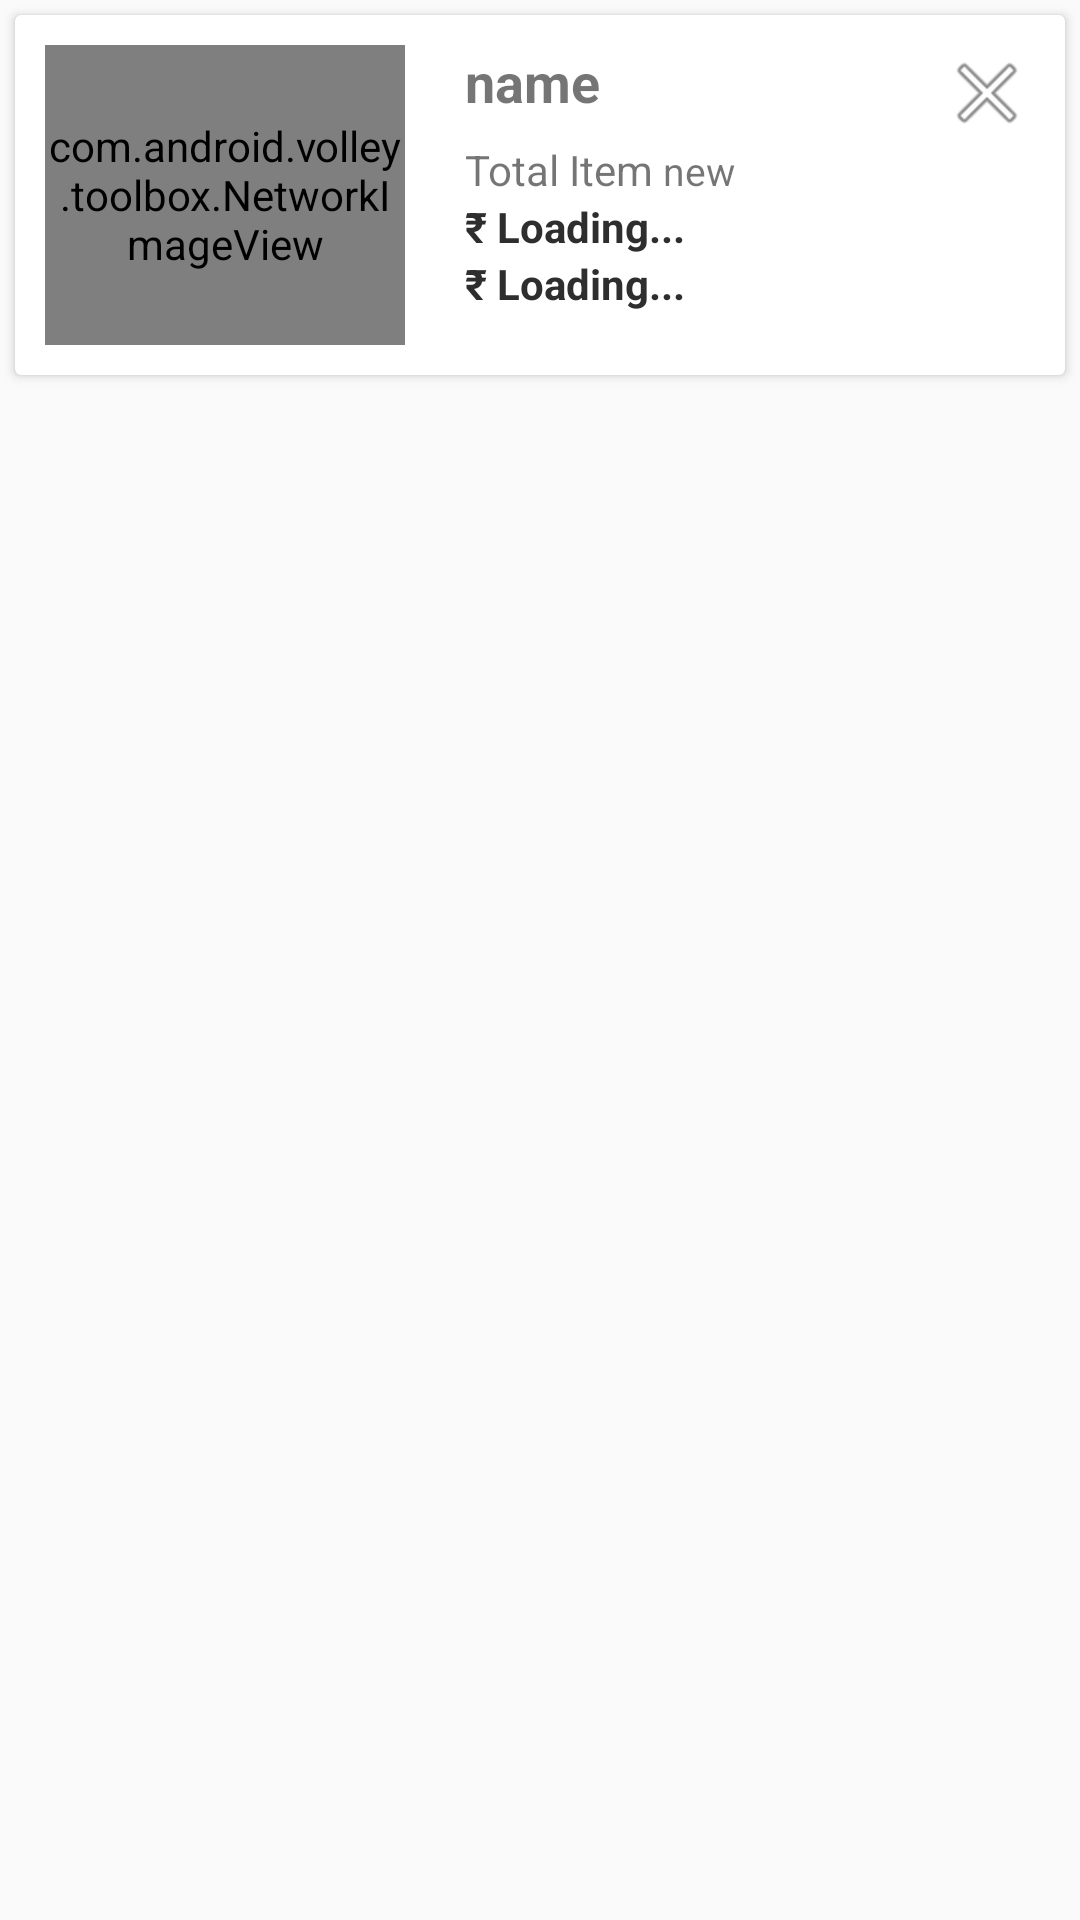

Named icons in this screenshot (1080px x 1920px) and their centers, (x,y):
close clear cancel: (987,93)
